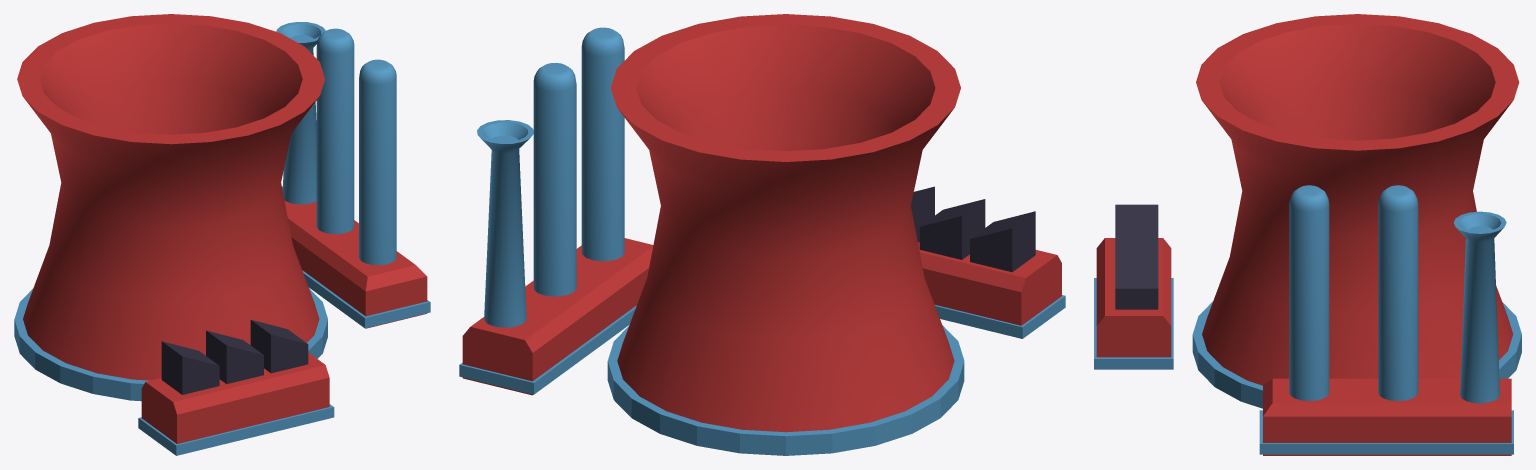
Rendered from 2026-7-1-CoalPlant-v018.fbx.
3 renders of one model, left to right at view 1: azimuth 30°, elevation 25°; view 2: azimuth 150°, elevation 25°; view 3: azimuth 270°, elevation 25°, orthographic. The views are drawn at different scales.
Visible parts, largest first — view 1: Cube.002; view 2: Cube.002; view 3: Cube.002.
Boxes of the visible parts, x1=… form: Cube.002: x1=14, y1=14, x2=430, y2=455; Cube.002: x1=459, y1=14, x2=1065, y2=455; Cube.002: x1=1094, y1=14, x2=1521, y2=455.
Size of the model in its own units: 211 by 149 by 214.
